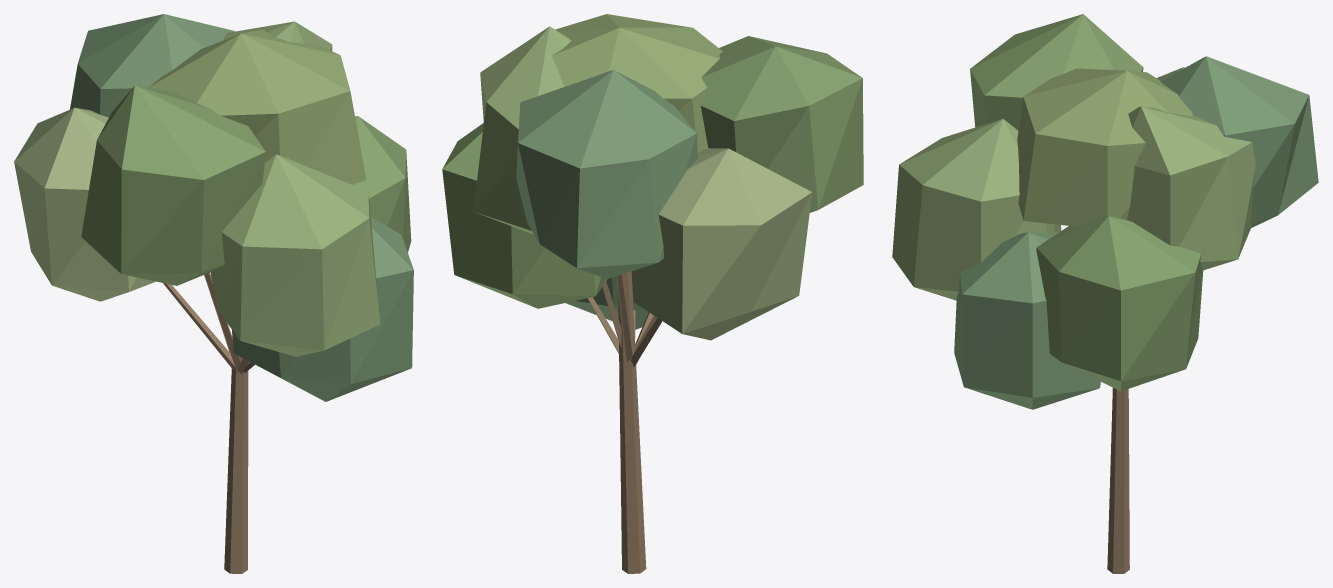
3 views of the same model, side by side, from view 1: azimuth 30°, elevation 25°; view 2: azimuth 150°, elevation 25°; view 3: azimuth 270°, elevation 25° (orthographic). The views are drawn at different scales.
Bounding box in the file's own units: 9.1 × 12.85 × 9.86.
